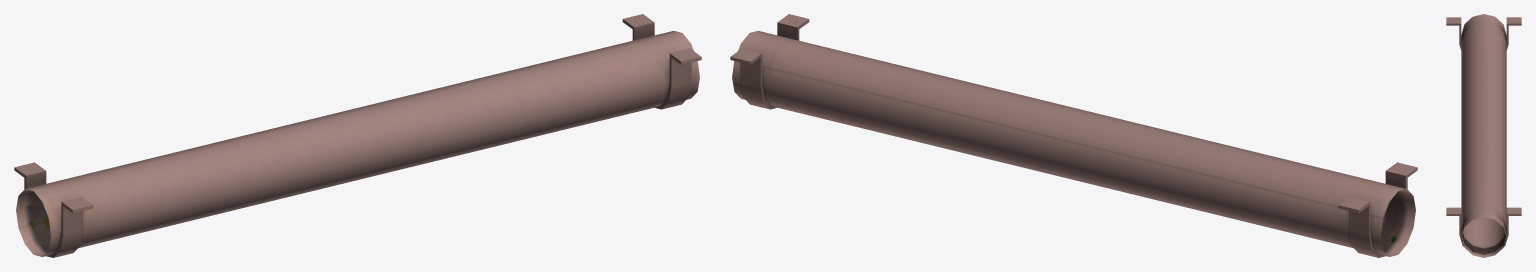
Rendered from props_farm_gutter_pipe_128.glb.
The picture shows the model from 3 angles, left to right: view 1: azimuth 30°, elevation 25°; view 2: azimuth 150°, elevation 25°; view 3: azimuth 270°, elevation 25°; orthographic projection. The views are drawn at different scales.
Visible parts, largest first — view 1: models/props_farm/gutter_pipe_128; view 2: models/props_farm/gutter_pipe_128; view 3: models/props_farm/gutter_pipe_128.
Boxes of the visible parts, left/top/right/bottom form: models/props_farm/gutter_pipe_128: left=14, top=14, right=701, bottom=257; models/props_farm/gutter_pipe_128: left=730, top=14, right=1417, bottom=257; models/props_farm/gutter_pipe_128: left=1446, top=14, right=1521, bottom=257.
Bounding box in the file's own units: 128 × 12.6 × 20.
1 material, 1 textured.
